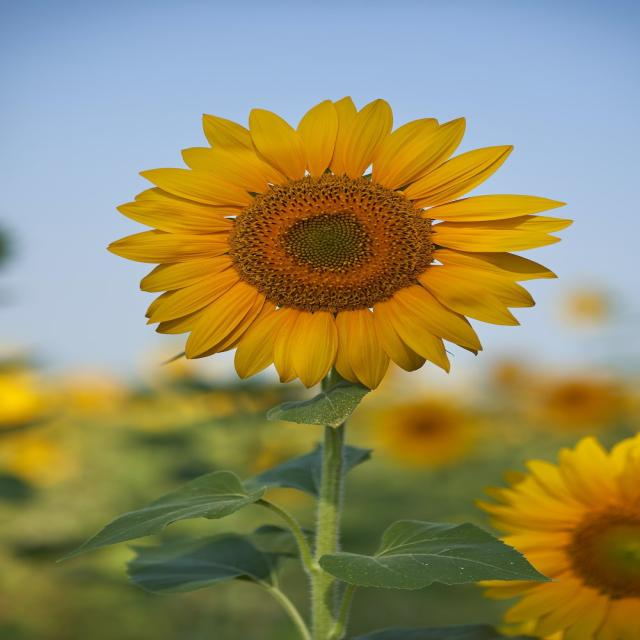sunflower: (106, 95, 574, 391), (473, 431, 639, 639), (368, 395, 481, 468)
